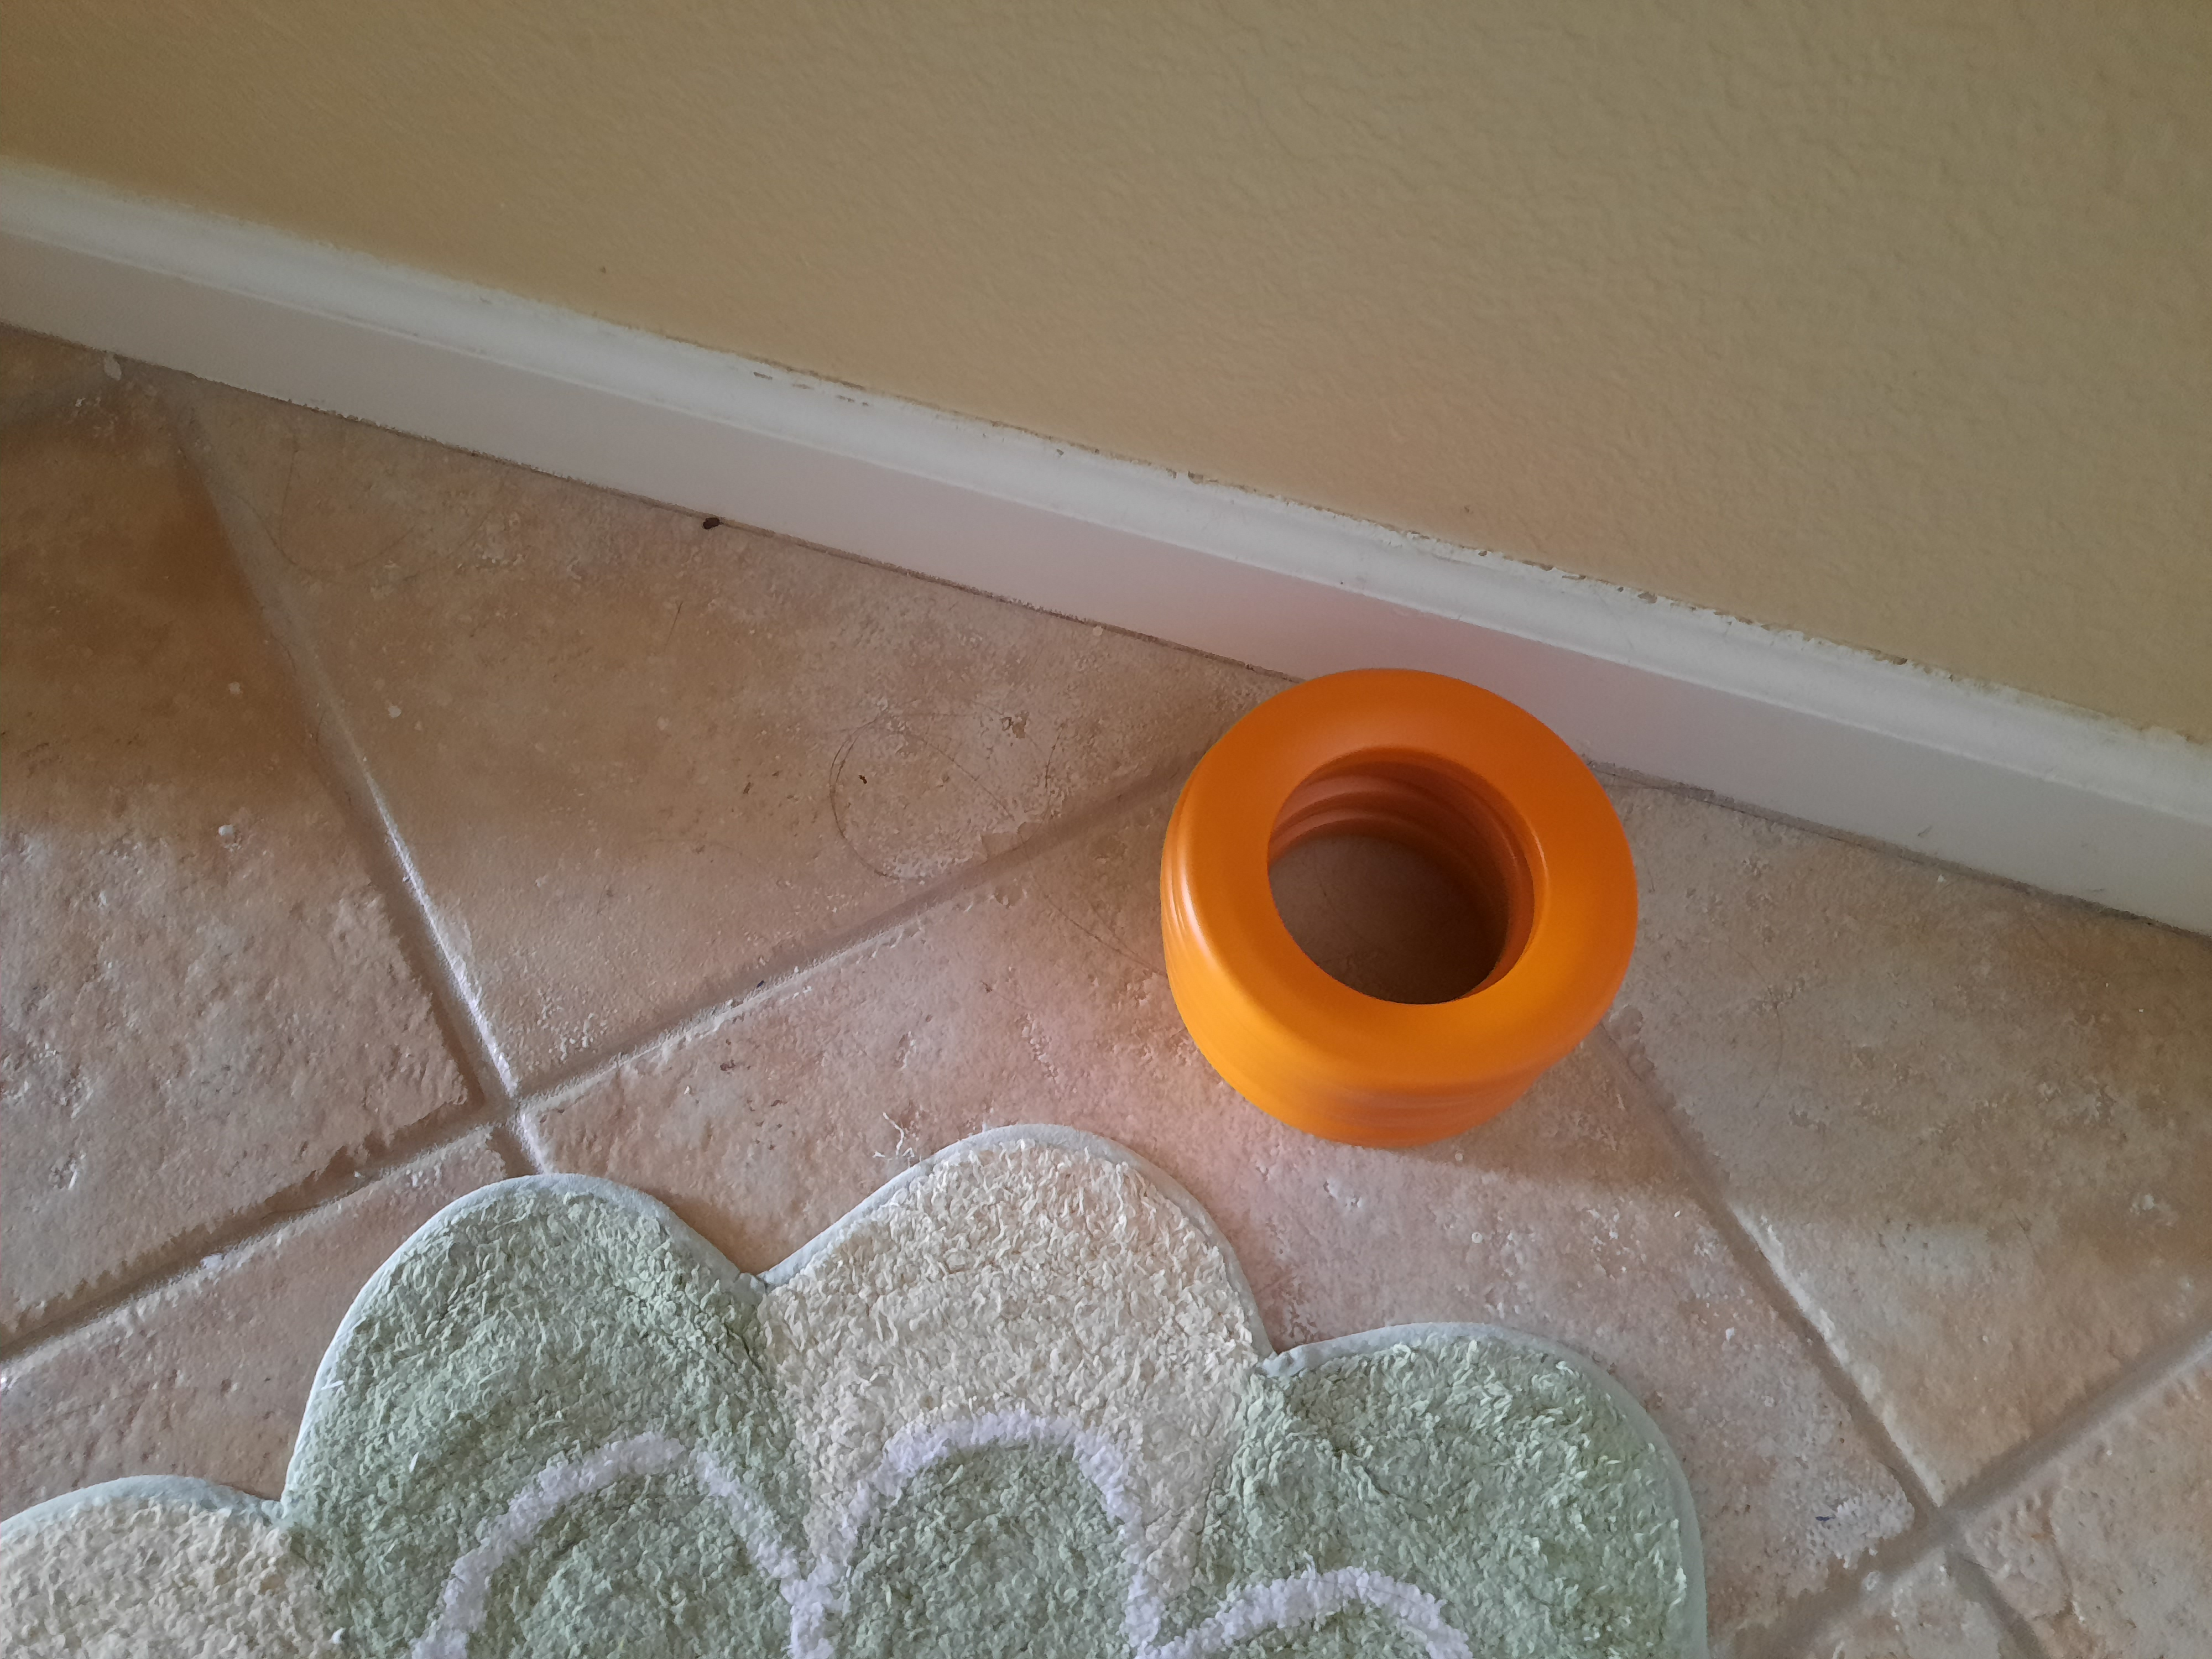FourStack: (1155, 671, 1644, 1133)
